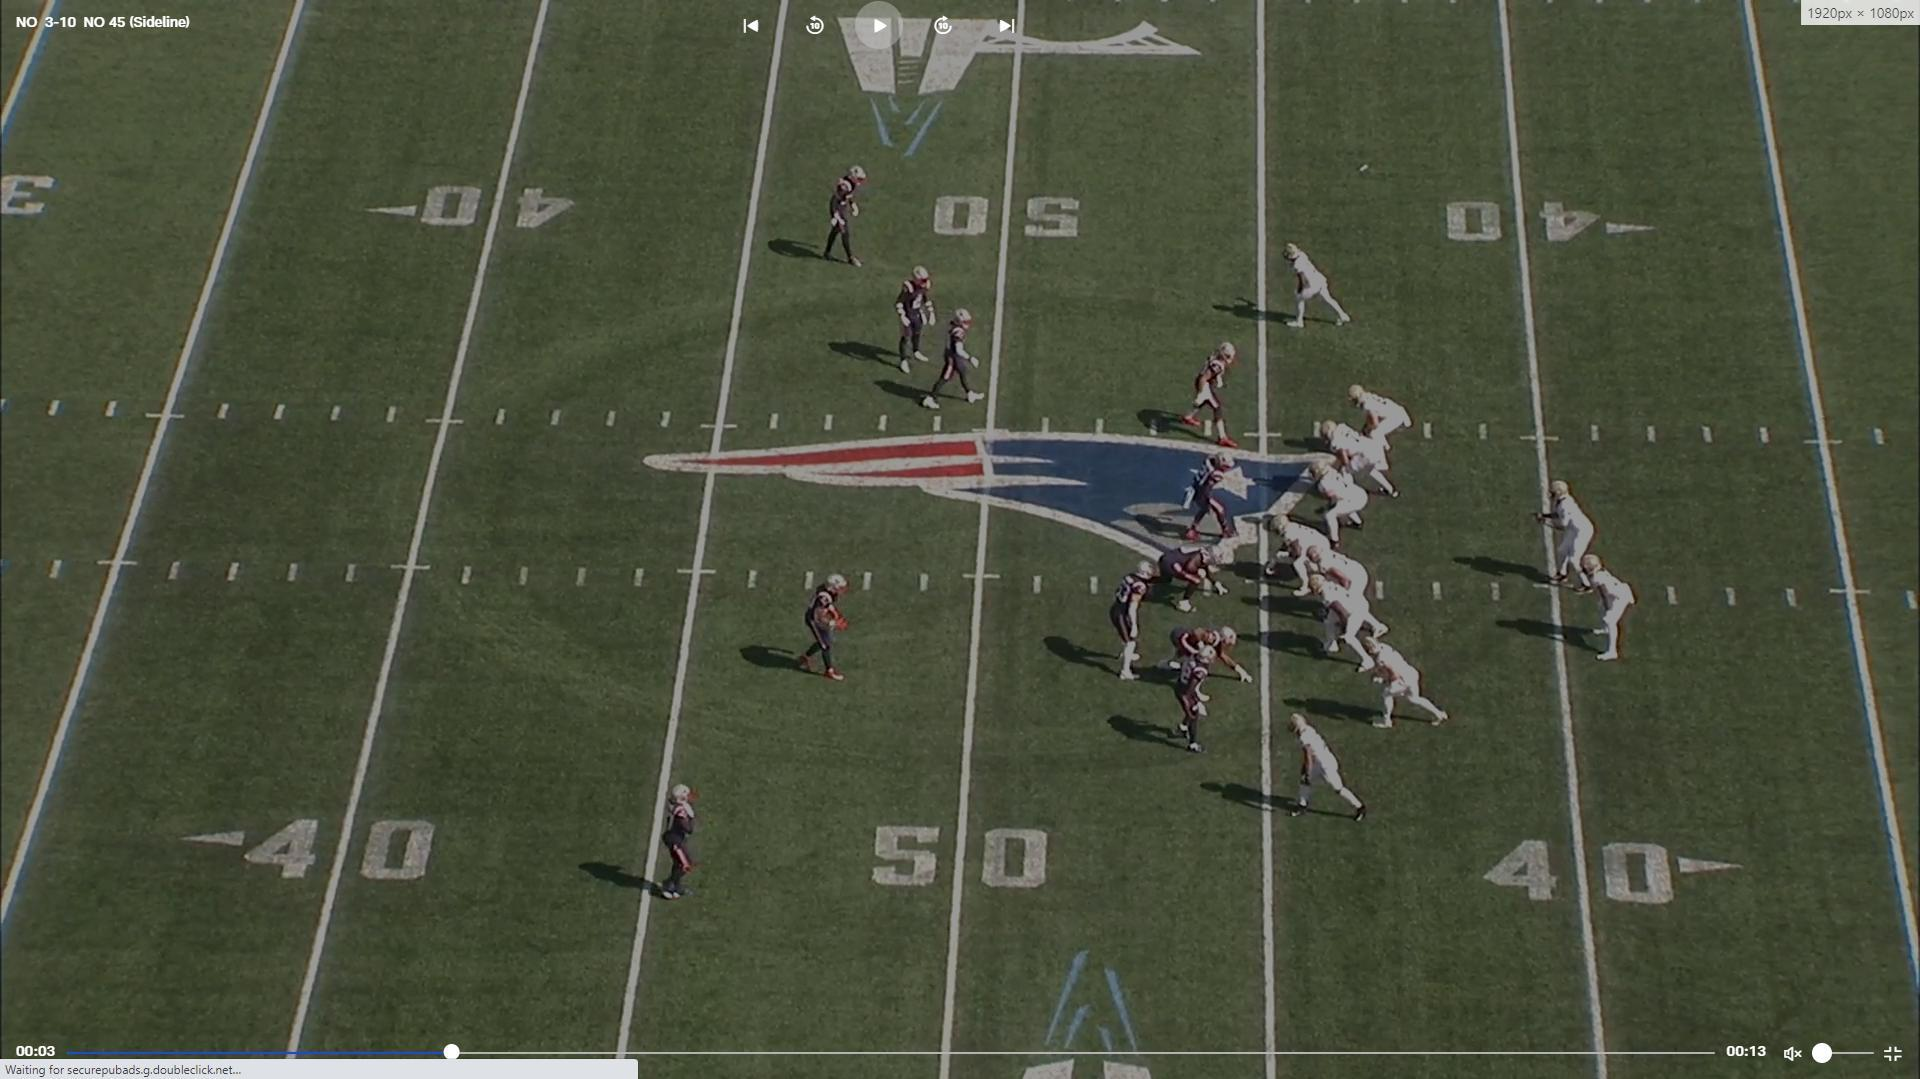player: (1286, 712, 1377, 827), (1360, 633, 1452, 733), (1169, 343, 1242, 455), (1109, 552, 1164, 691), (1313, 571, 1392, 666), (651, 775, 706, 911), (1277, 242, 1354, 338), (1534, 477, 1596, 596), (1319, 418, 1401, 506), (1577, 547, 1638, 664), (923, 306, 988, 415), (1176, 450, 1247, 549), (1155, 626, 1249, 700), (801, 566, 858, 686), (1169, 627, 1219, 761), (1343, 381, 1415, 474), (1308, 548, 1384, 635), (1163, 535, 1242, 616), (1266, 513, 1336, 601), (1311, 454, 1374, 548), (821, 164, 871, 275), (890, 262, 936, 377)
